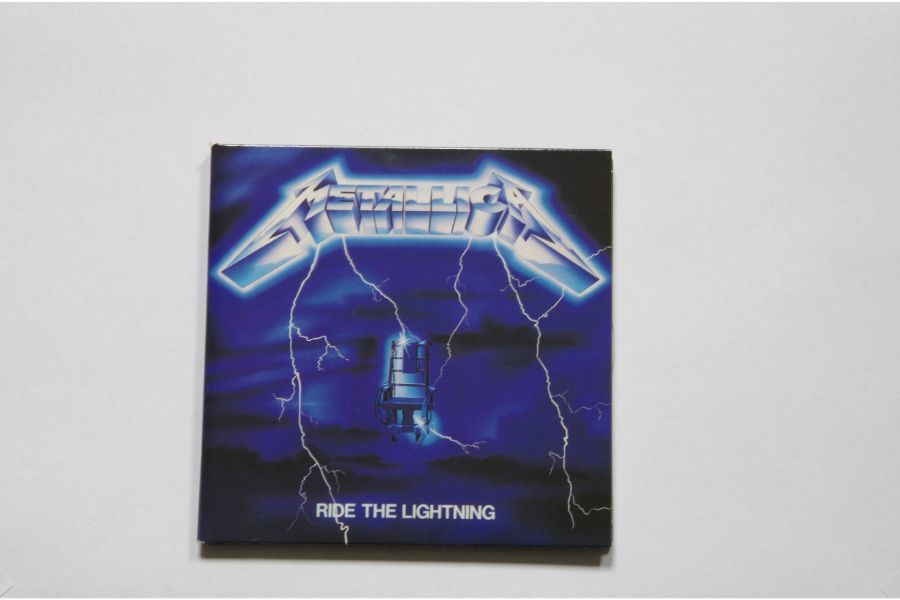album: (196, 143, 615, 550)
